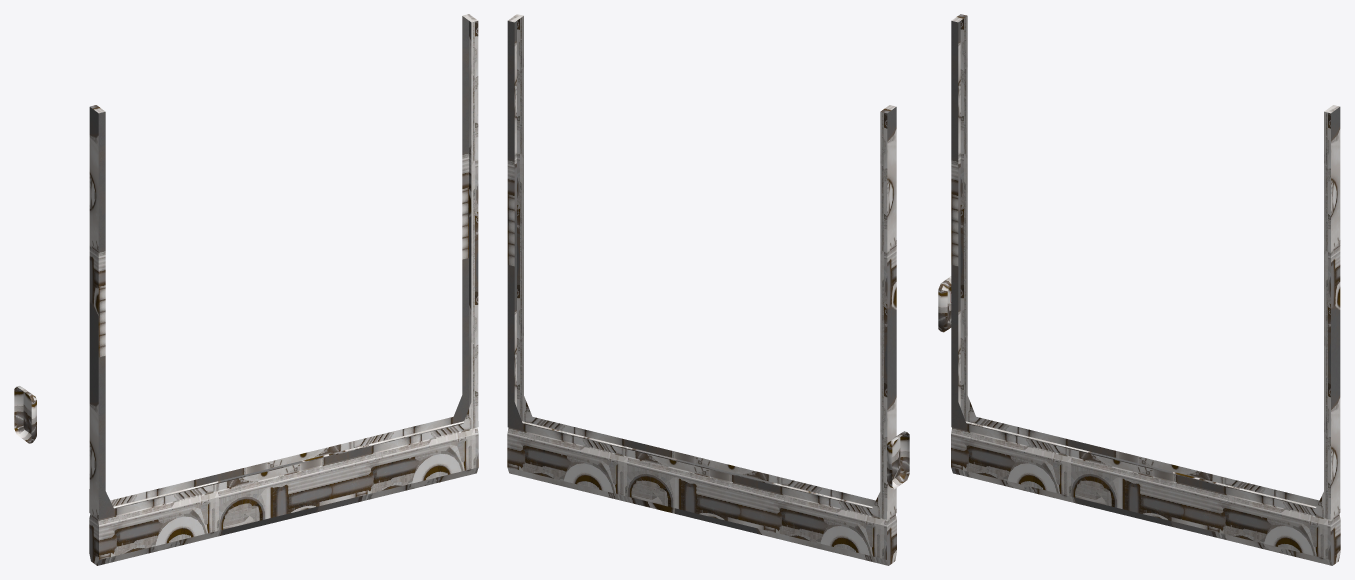
The model's file is door.fbx.
3 views of the same model, side by side, from view 1: azimuth 30°, elevation 25°; view 2: azimuth 150°, elevation 25°; view 3: azimuth 330°, elevation 25° (orthographic).
Parts seen in each view (by area): view 1: door 1; view 2: door 1; view 3: door 1.
Boxes of the visible parts, bbox=[...] form: door 1: bbox=[14, 14, 478, 565]; door 1: bbox=[507, 14, 909, 565]; door 1: bbox=[938, 14, 1340, 565].
Bounding box in the file's own units: 1308 × 1351 × 241.
